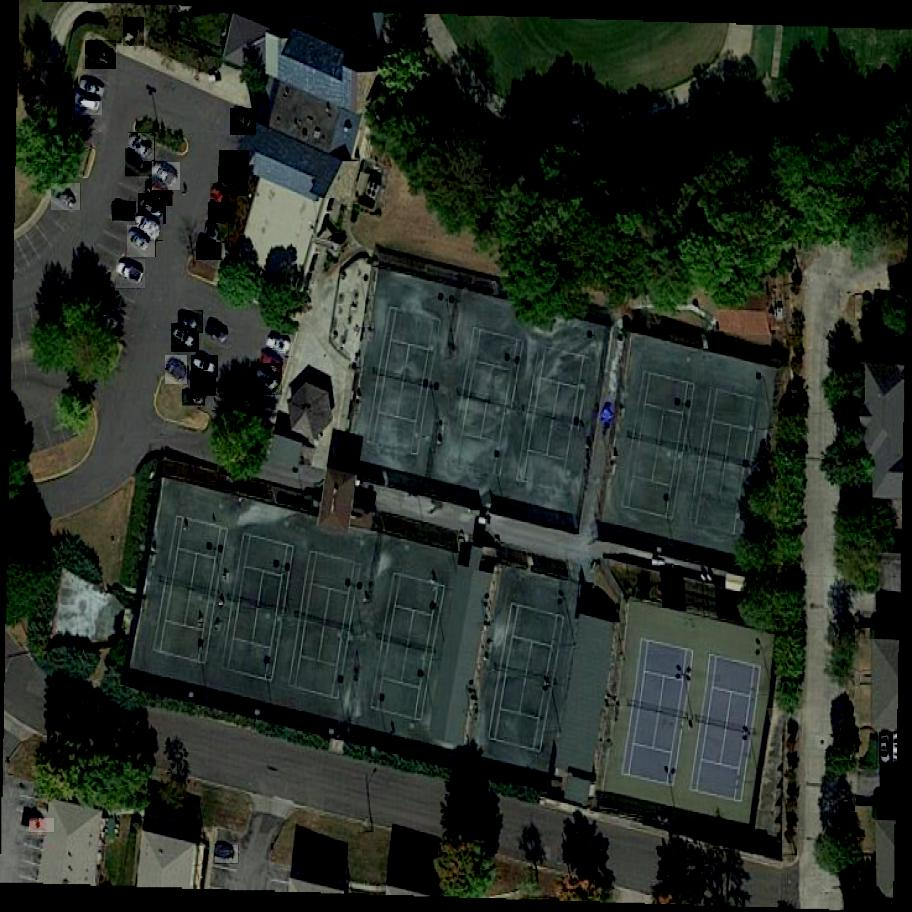small-vehicle: (215, 149, 254, 179), (125, 225, 159, 258), (217, 166, 251, 197), (137, 193, 170, 224), (203, 317, 236, 348), (114, 260, 148, 290), (252, 364, 284, 395), (209, 183, 242, 213), (48, 183, 83, 211), (122, 148, 154, 178), (85, 41, 118, 69), (133, 214, 166, 242), (169, 324, 200, 353), (151, 162, 181, 191), (128, 133, 158, 162), (255, 350, 287, 377), (142, 181, 175, 207), (227, 108, 258, 135), (164, 355, 192, 384), (73, 91, 105, 116), (79, 76, 110, 101), (187, 373, 219, 396), (264, 335, 295, 358), (176, 310, 205, 334), (206, 202, 236, 225), (191, 356, 221, 379), (124, 18, 146, 46), (110, 201, 137, 222), (206, 223, 232, 244), (194, 242, 224, 260), (878, 733, 894, 765), (214, 846, 239, 864), (182, 389, 205, 405), (30, 818, 54, 832)
